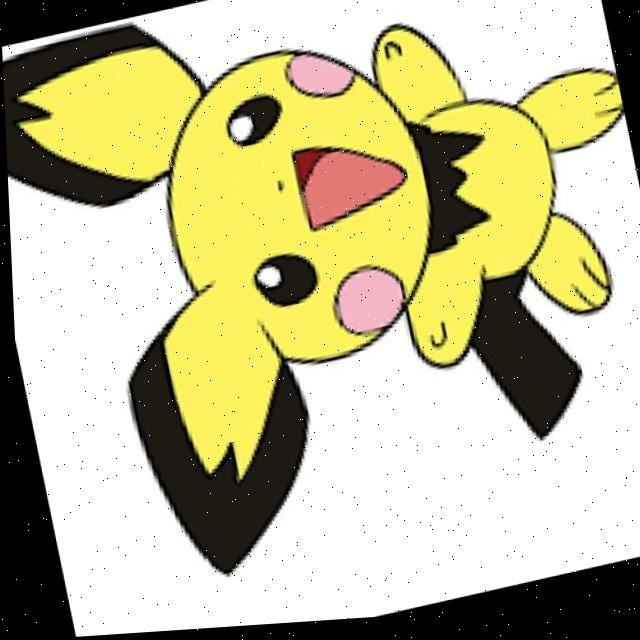pichu: (0, 0, 640, 610)
